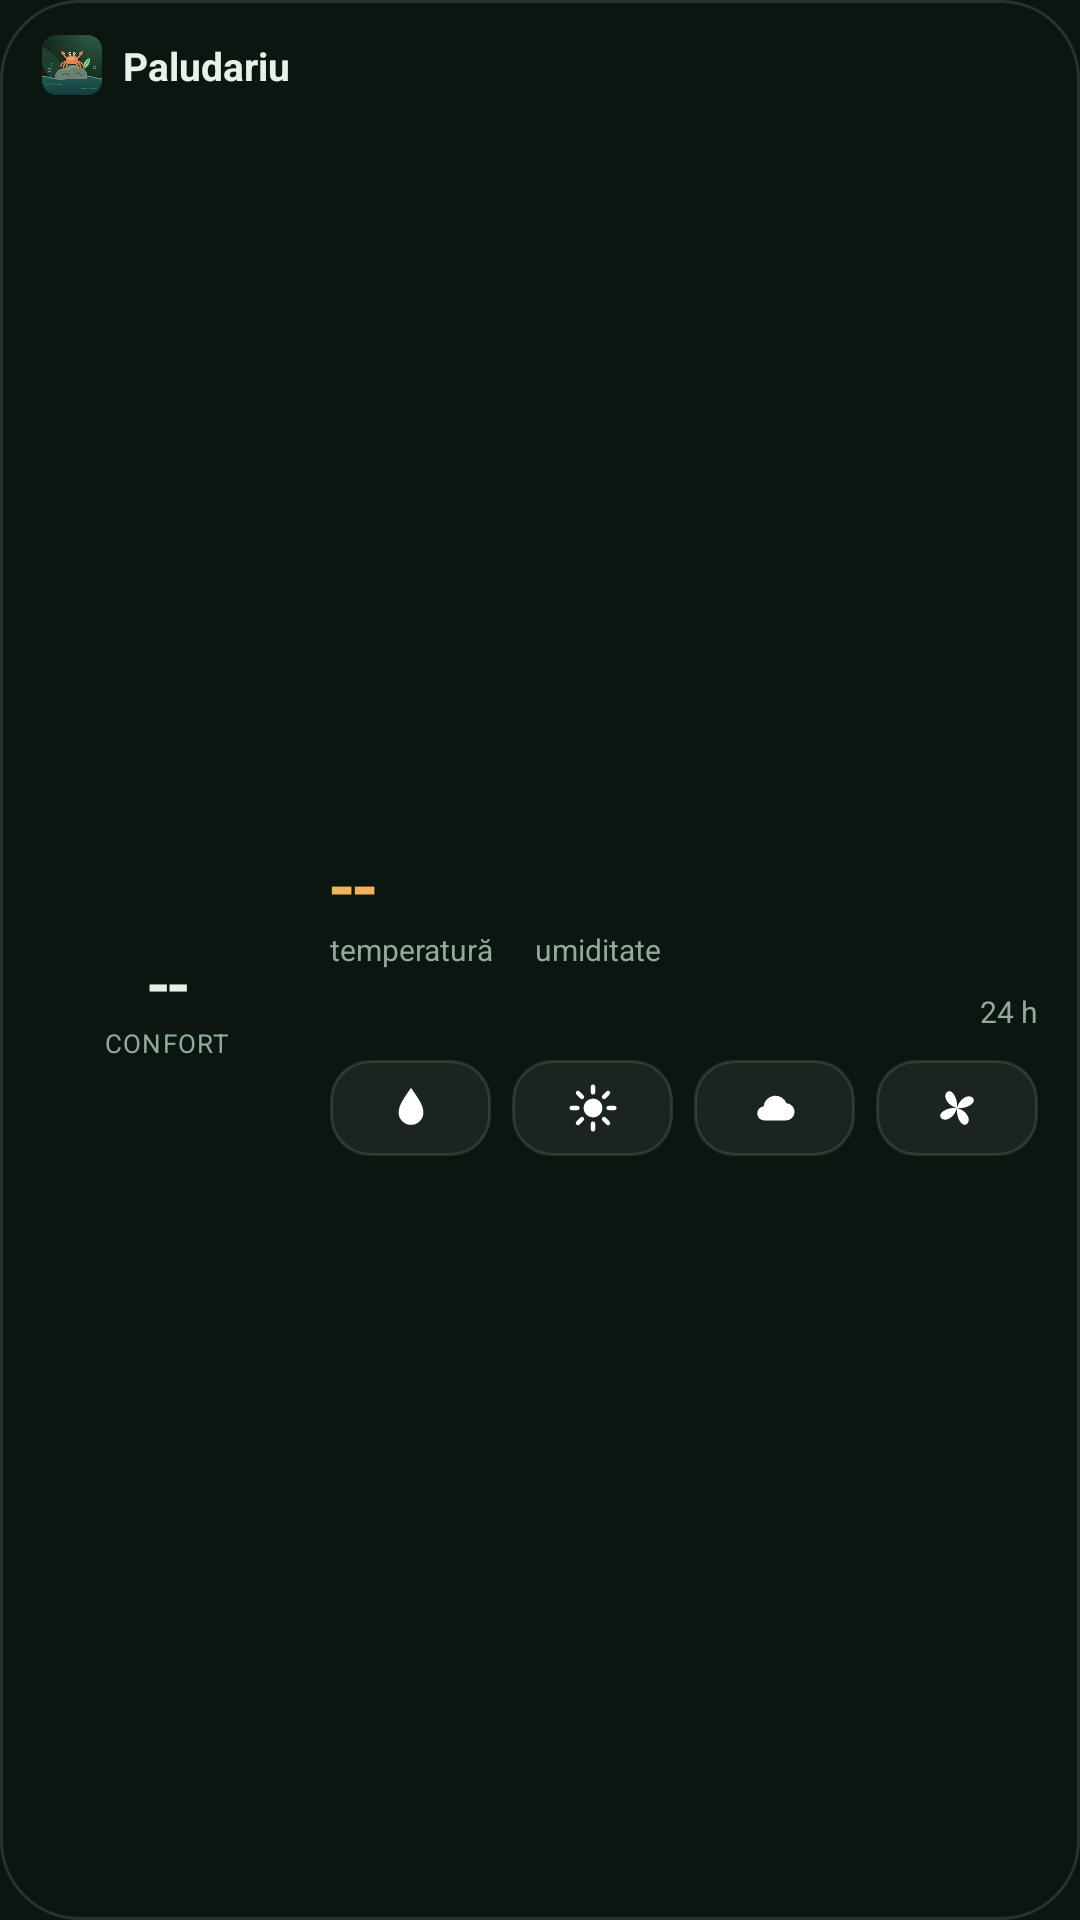

Icon bounding boxes for this 1080 x 1920 phone screenshot, format (x1, y1, x2, y2):
Ceață: (694, 1060, 855, 1156)
Lumină: (512, 1060, 673, 1156)
Pompă: (330, 1060, 491, 1156)
Ventilator: (876, 1060, 1038, 1156)
